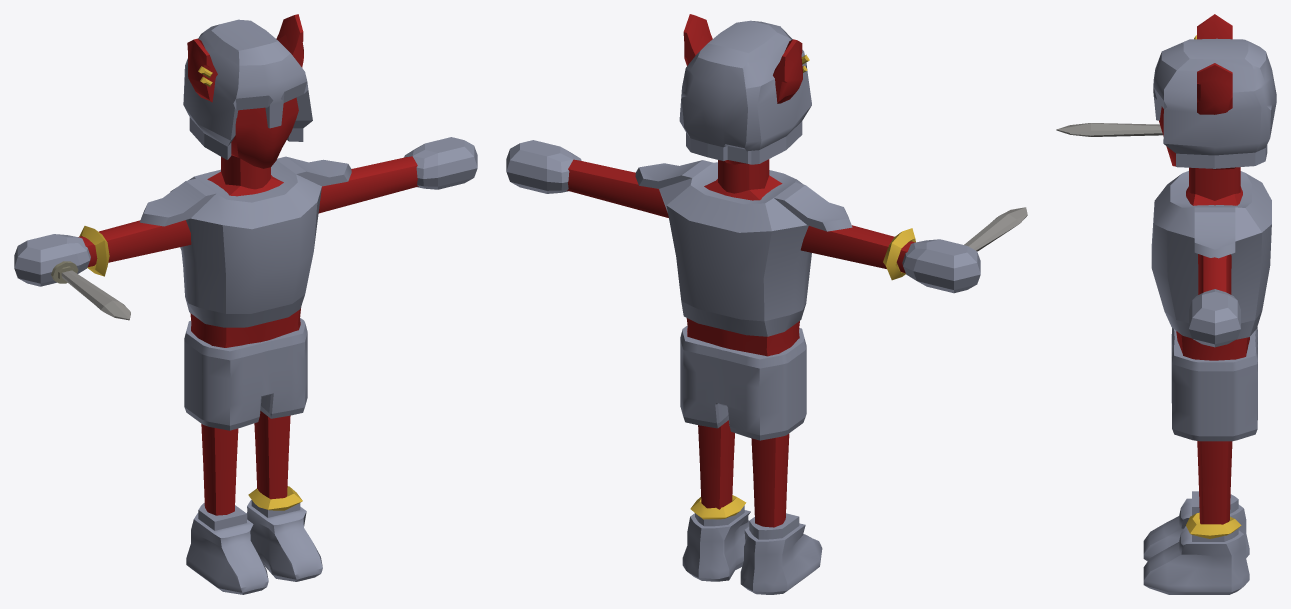
Rendered from redGoblin.fbx.
The picture shows the model from 3 angles, left to right: view 1: azimuth 30°, elevation 25°; view 2: azimuth 150°, elevation 25°; view 3: azimuth 270°, elevation 25°; orthographic projection. The views are drawn at different scales.
Parts seen in each view (by area): view 1: chestplate, goblin_body, helmet, pants, boots, gloves, blade, bangle1, bangle; view 2: chestplate, goblin_body, helmet, pants, boots, gloves, blade, bangle1, bangle; view 3: chestplate, helmet, goblin_body, pants, boots, gloves, blade, bangle.
Part boxes in pixels (x1,y1,x2,y2): chestplate: (139, 156, 351, 327); goblin_body: (78, 14, 418, 515); helmet: (183, 19, 312, 159); pants: (184, 318, 307, 430); boots: (186, 500, 322, 594); gloves: (14, 137, 477, 286); blade: (61, 270, 130, 320); bangle1: (79, 226, 109, 276); bangle: (248, 486, 302, 510); chestplate: (635, 160, 852, 336); goblin_body: (567, 14, 915, 527); helmet: (679, 20, 811, 164); pants: (680, 325, 806, 440); boots: (682, 505, 822, 594); gloves: (506, 140, 980, 293); blade: (964, 207, 1027, 251); bangle1: (883, 228, 915, 280); bangle: (690, 495, 746, 519); chestplate: (1151, 171, 1271, 339); helmet: (1153, 38, 1276, 168); goblin_body: (1159, 14, 1249, 524); pants: (1171, 327, 1257, 441); boots: (1143, 491, 1249, 594); gloves: (1189, 289, 1240, 347); blade: (1056, 123, 1162, 136); bangle: (1186, 512, 1241, 538).
Size of the model in its own units: 141 by 156 by 58.47.
